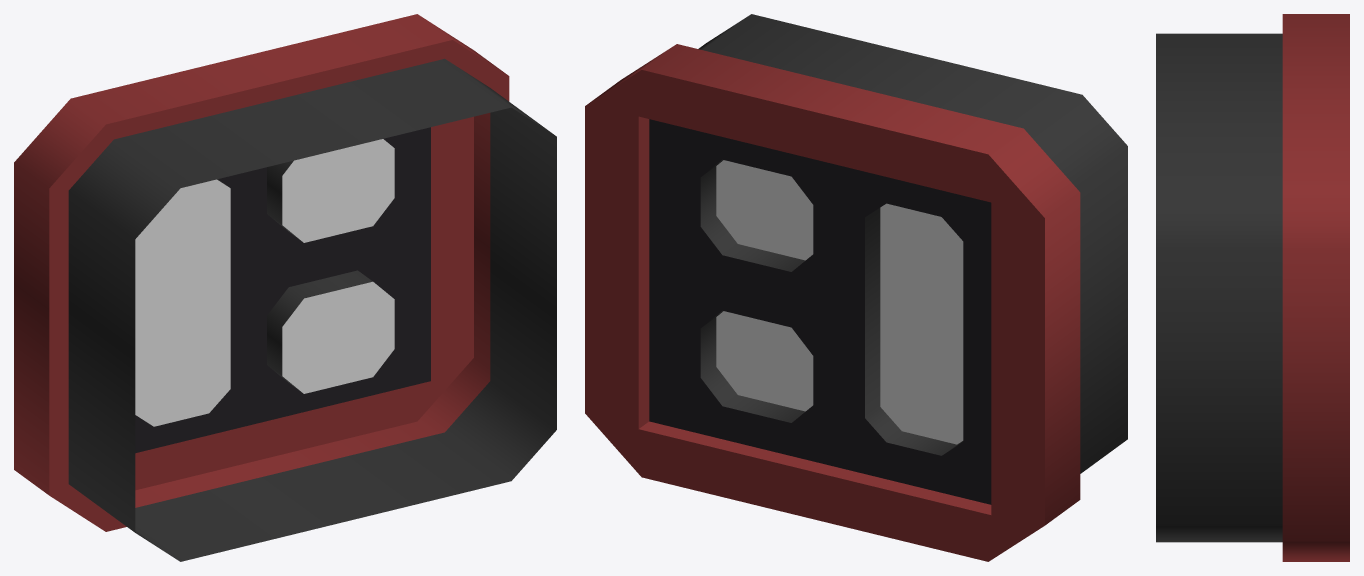
Rendered from Fire Alarm.fbx.
3 views of the same model, side by side, from view 1: azimuth 30°, elevation 25°; view 2: azimuth 150°, elevation 25°; view 3: azimuth 270°, elevation 25° (orthographic). The views are drawn at different scales.
Parts seen in each view (by area): view 1: Fire Alarm; view 2: Fire Alarm; view 3: Fire Alarm.
Part boxes in pixels (x1,y1,x2,y2): Fire Alarm: (14, 14, 556, 561); Fire Alarm: (585, 14, 1127, 561); Fire Alarm: (1156, 14, 1349, 561).
Size of the model in its own units: 0.4197 by 0.3554 by 0.1612.
